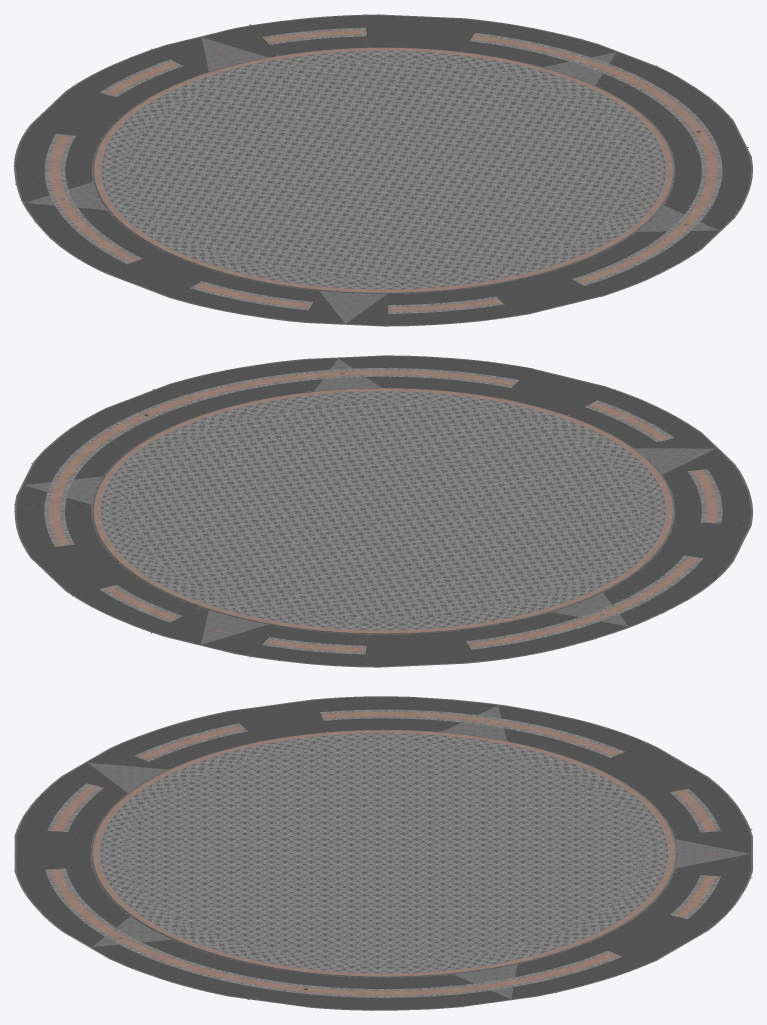
3 views of the same model, one above another, from view 1: azimuth 30°, elevation 25°; view 2: azimuth 150°, elevation 25°; view 3: azimuth 270°, elevation 25° (orthographic).
Visible parts, largest first — view 1: um_t1_g13_5_model_t1_g13_5_modelShape, nomerge_t1_g13_1_model_road_base3; view 2: um_t1_g13_5_model_t1_g13_5_modelShape, nomerge_t1_g13_1_model_road_base3; view 3: um_t1_g13_5_model_t1_g13_5_modelShape, nomerge_t1_g13_1_model_road_base3.
Part boxes in pixels (bbox=[...]): um_t1_g13_5_model_t1_g13_5_modelShape: bbox=[14, 14, 751, 326]; nomerge_t1_g13_1_model_road_base3: bbox=[14, 14, 752, 326]; um_t1_g13_5_model_t1_g13_5_modelShape: bbox=[14, 355, 751, 667]; nomerge_t1_g13_1_model_road_base3: bbox=[14, 355, 752, 667]; um_t1_g13_5_model_t1_g13_5_modelShape: bbox=[14, 696, 752, 1010]; nomerge_t1_g13_1_model_road_base3: bbox=[14, 696, 752, 1010].
Size of the model in its own units: 179 by 0.1425 by 178.
Materials: 8 (8 with a texture image).
